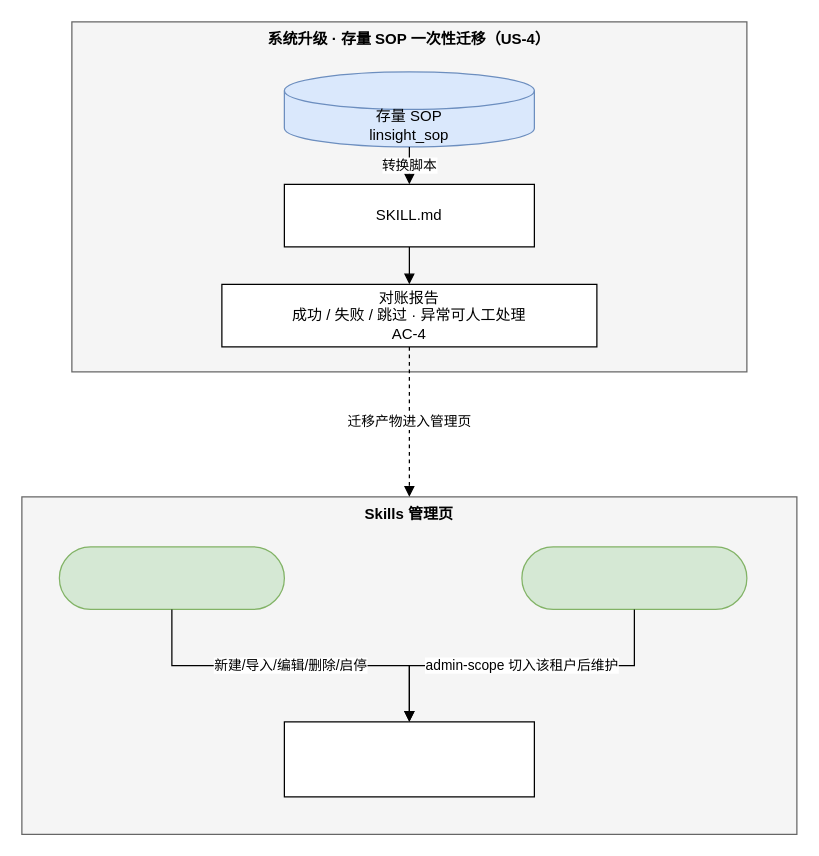
Image size: 819x856. Some labels were removed from this diagram. The shapes that lost their labels are listed below. From the top down, each one's centre as x and y in pixels, then its label:
At pixel 171 577: "租户管理员 · US-3".
At pixel 634 577: "系统管理员 · US-5".
At pixel 408 759: "租户自定义 Skill 按租户隔离".
